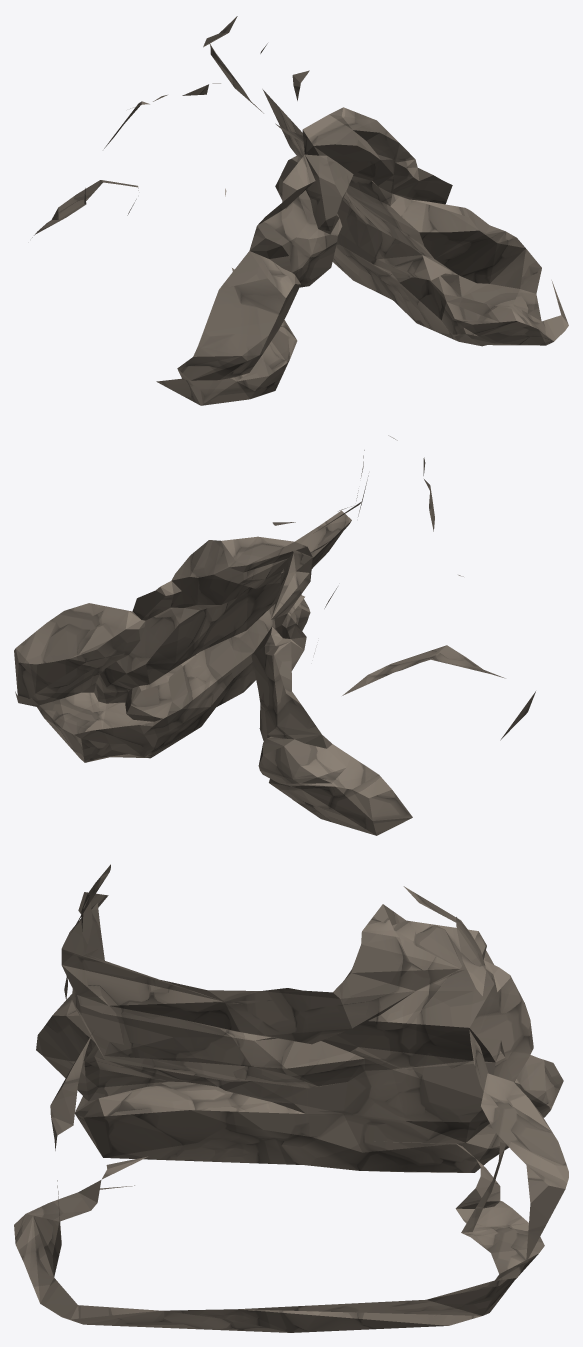
Rendered from synty-rock-caveinterior-01.gltf.
3 views of the same model, one above another, from view 1: azimuth 30°, elevation 25°; view 2: azimuth 150°, elevation 25°; view 3: azimuth 270°, elevation 25° (orthographic). The views are drawn at different scales.
Parts seen in each view (by area): view 1: SM_Rock_CaveInterior_01; view 2: SM_Rock_CaveInterior_01; view 3: SM_Rock_CaveInterior_01.
Part boxes in pixels (bbox=[...]): SM_Rock_CaveInterior_01: bbox=[32, 16, 568, 405]; SM_Rock_CaveInterior_01: bbox=[14, 435, 535, 835]; SM_Rock_CaveInterior_01: bbox=[14, 864, 568, 1332].
Size of the model in its own units: 9.73 by 6.13 by 9.04.
1 material, 1 textured.
